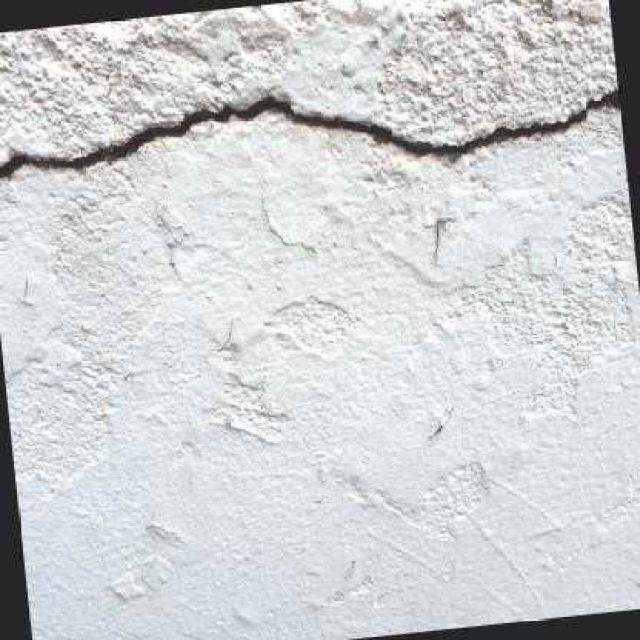D00: (0, 85, 619, 181)
